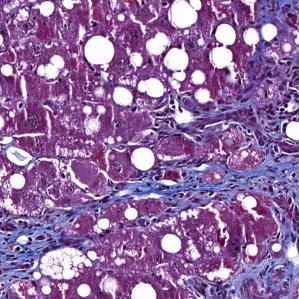fibrosis: (150, 159, 299, 219), (0, 205, 83, 283), (213, 252, 299, 299), (243, 0, 299, 29)
